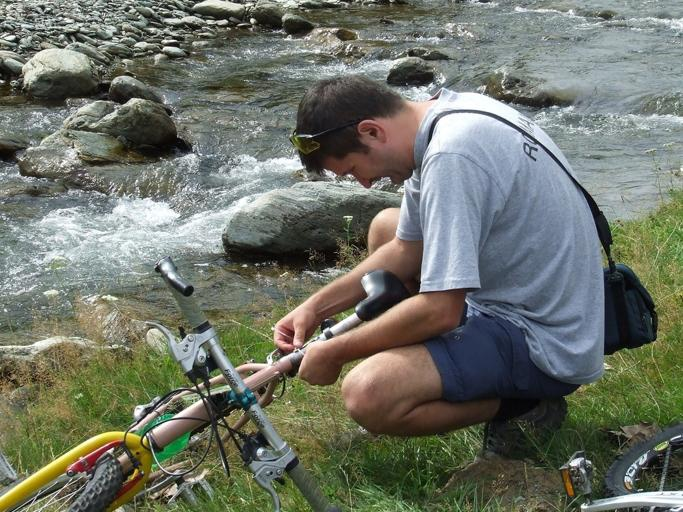non-vehicle: (0, 253, 416, 511), (557, 419, 682, 512)
